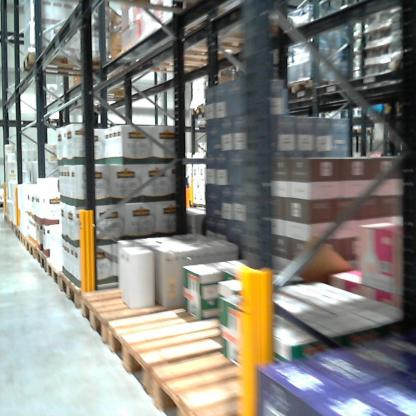pallet: (106, 296, 288, 393), (80, 251, 237, 352), (150, 332, 333, 416), (57, 266, 146, 309), (19, 46, 102, 82), (84, 85, 148, 108), (290, 79, 317, 96), (34, 243, 47, 272), (47, 257, 59, 286), (25, 234, 37, 259), (186, 103, 203, 118), (13, 220, 20, 244), (19, 230, 26, 250)
pallet_truck: (170, 166, 192, 219)
